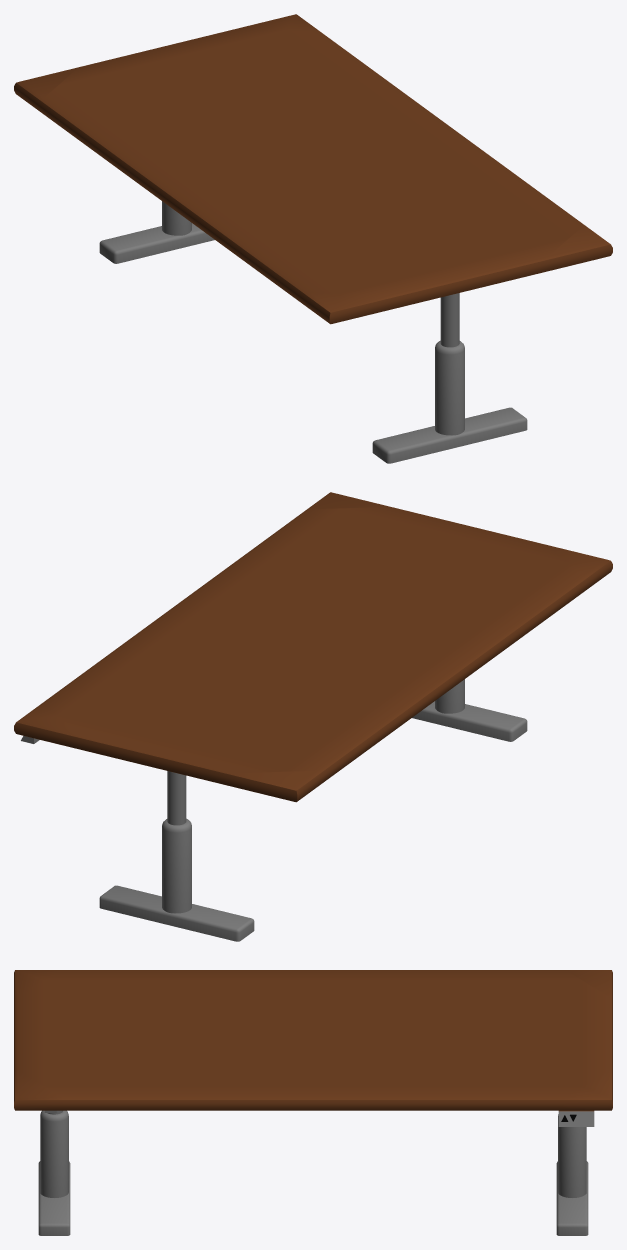
File: desk.fbx
The picture shows the model from 3 angles, top to bottom: view 1: azimuth 30°, elevation 25°; view 2: azimuth 150°, elevation 25°; view 3: azimuth 270°, elevation 25°; orthographic projection. The views are drawn at different scales.
Visible parts, largest first — view 1: Cube, Cube.001, Cylinder.001, Cylinder; view 2: Cube, Cube.001, Cylinder.001, Cylinder; view 3: Cube, Cylinder.001, Cube.001.
Boxes of the visible parts, x1,y1,x2,y2 form: Cube: (14,14,612,324); Cube.001: (99,223,527,463); Cylinder.001: (162,201,464,435); Cylinder: (440,293,459,347); Cube: (14,492,612,802); Cube.001: (99,701,527,941); Cylinder.001: (162,679,464,913); Cylinder: (167,771,186,825); Cube: (14,970,612,1126); Cylinder.001: (40,1110,586,1197); Cube.001: (38,1161,588,1235).
Size of the model in its own units: 82.62 by 49.34 by 158.
